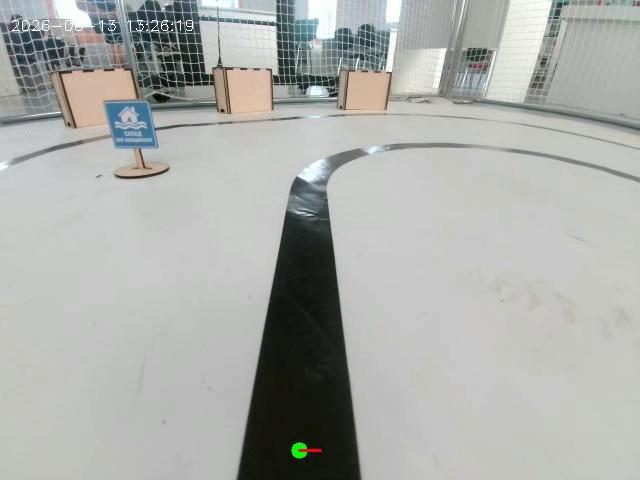flood: (104, 73, 172, 199)
